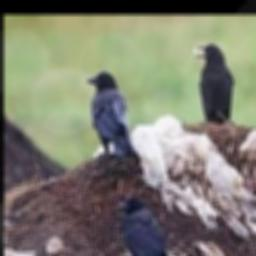Crow: (85, 71, 135, 156), (117, 195, 182, 256), (194, 43, 233, 123)
